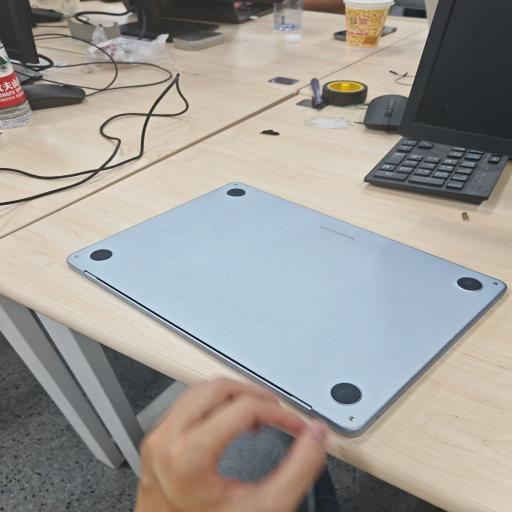laptop: (67, 183, 506, 436)
mouse: (363, 94, 408, 132), (22, 84, 86, 110)
